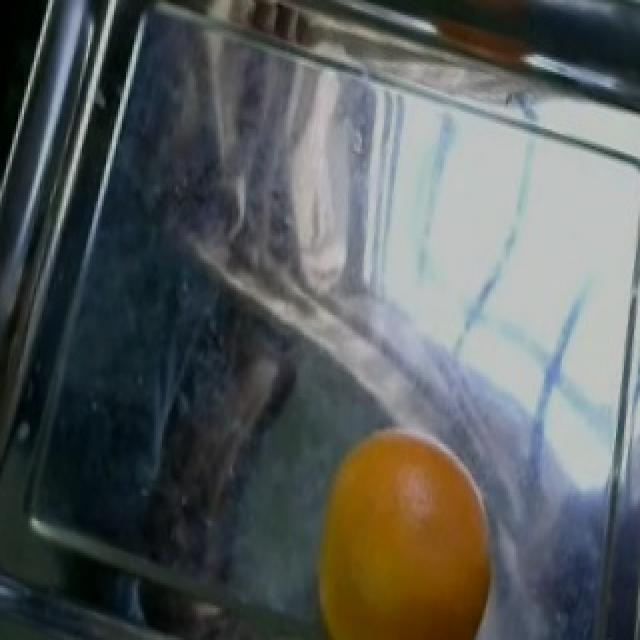Fruit: (294, 407, 502, 640), (120, 0, 322, 57)
